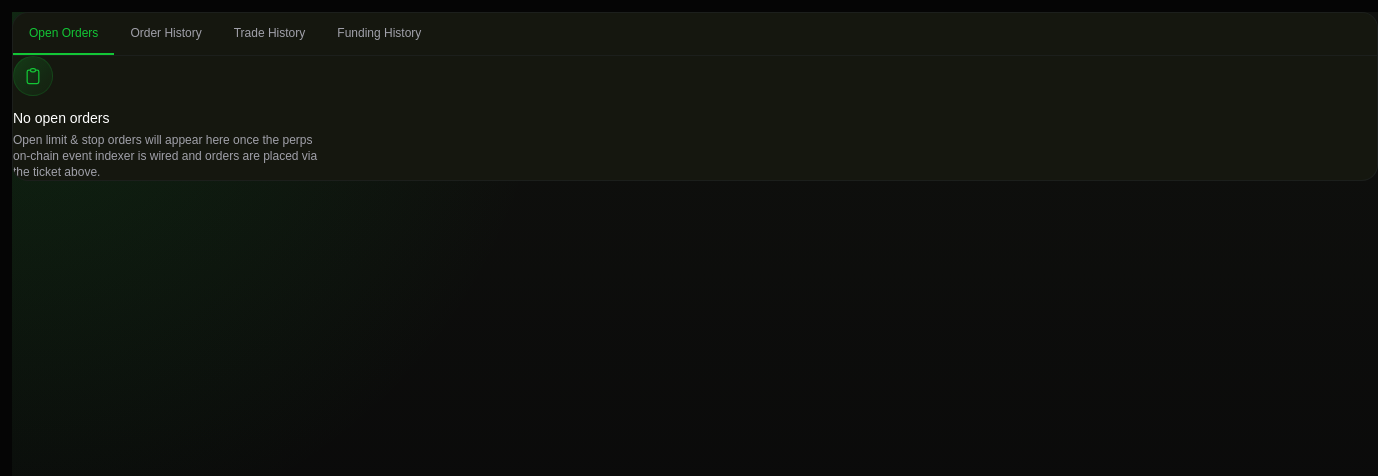
Test: PerpsHistoryTabs › shows the trade-history empty state on click without rendering fake rows
Click the button "Trade History": {"x": 270, "y": 34} [218,13,321,55]
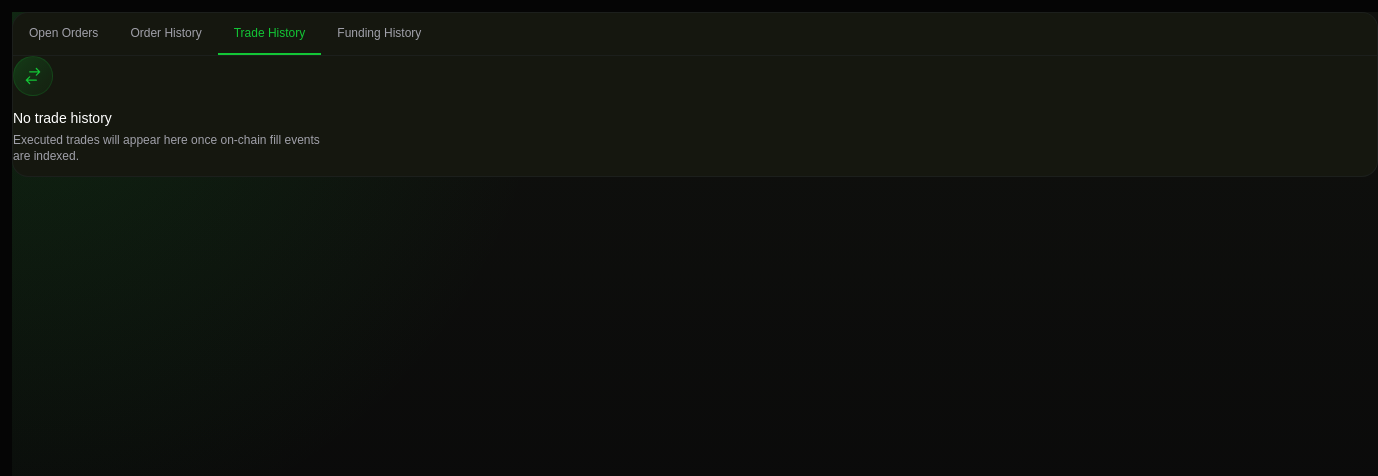
Expected: the text "No trade history" is shown, [13,110,112,126]
